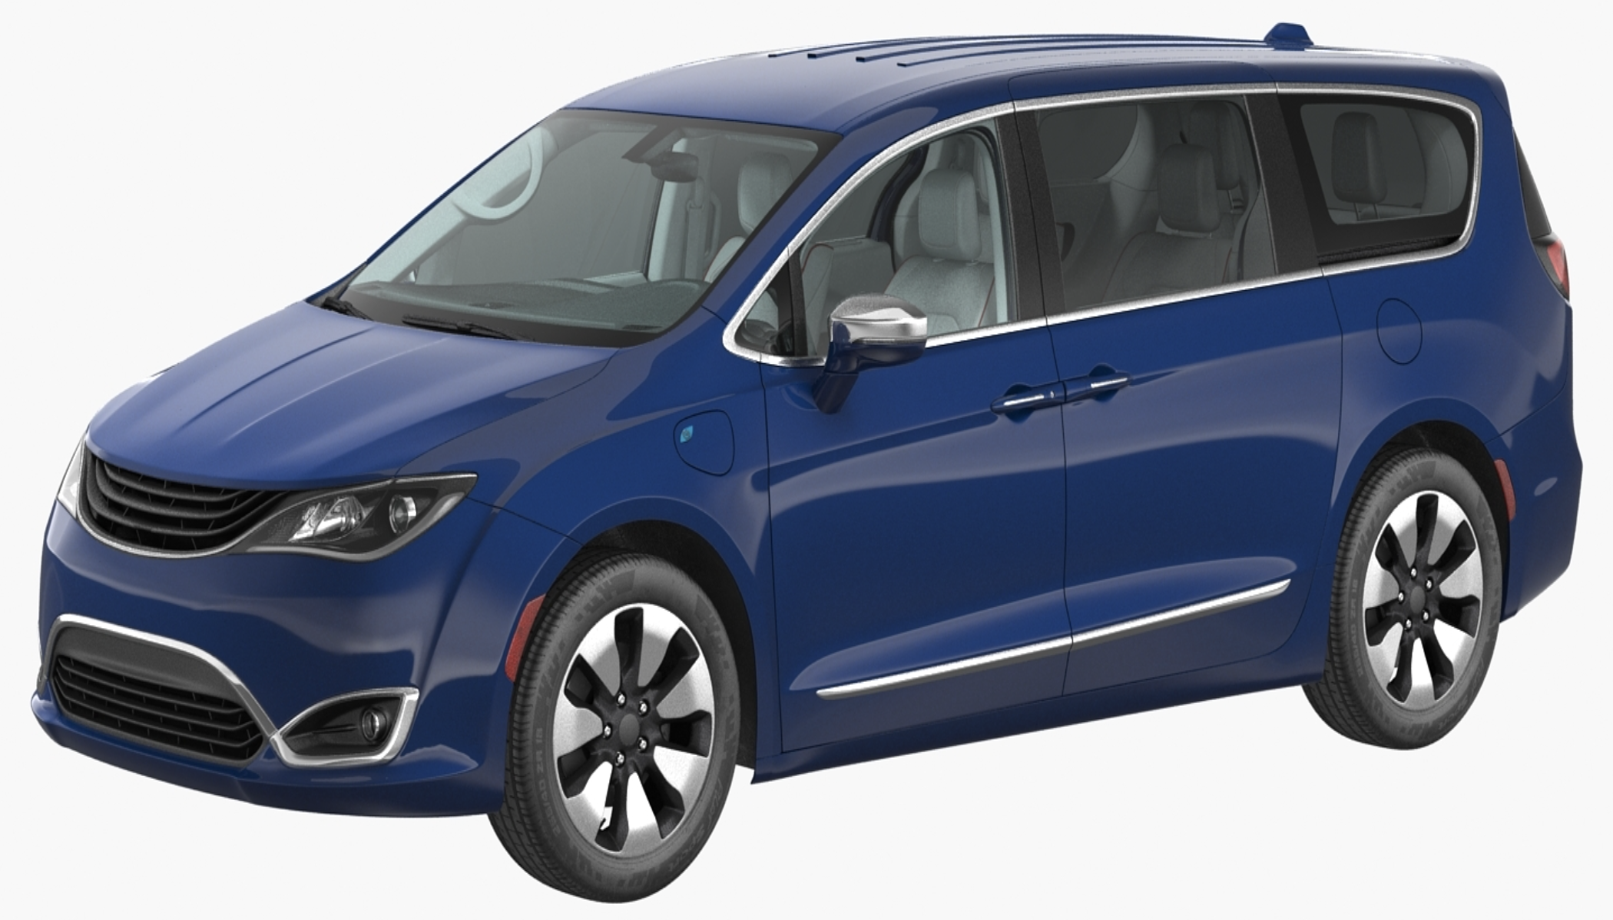hatch: (664, 403, 744, 487), (1363, 290, 1431, 374)
